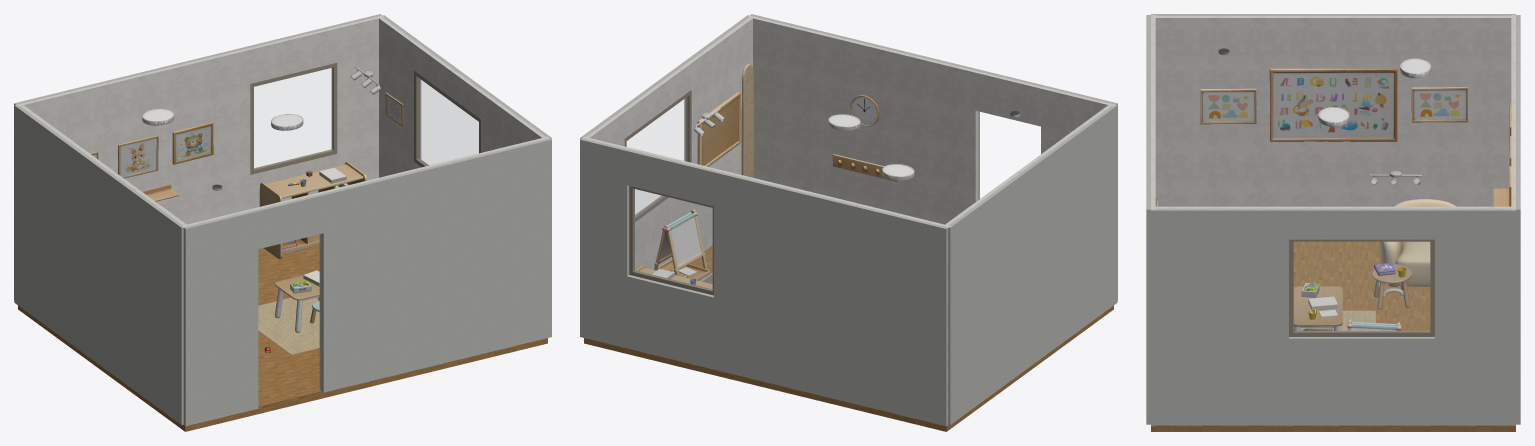
Rendered from scene_web.glb.
3 views of the same model, side by side, from view 1: azimuth 30°, elevation 25°; view 2: azimuth 150°, elevation 25°; view 3: azimuth 270°, elevation 25° (orthographic). The views are drawn at different scales.
Parts seen in each view (by area): view 1: geometry_0.003, geometry_0.007, geometry_0, geometry_0.004, Mesh_0, glass, glass.001, Mesh_0.001, geometry_0.009, frame, geometry_0.002, geometry_0.017 (+6 smaller); view 2: geometry_0.001, geometry_0.002, geometry_0.007, geometry_0.004, glass, Mesh_0, glass.001, geometry_0.008, geometry_0.022, frame, geometry_0.023, geometry_0.003 (+6 smaller); view 3: geometry_0.005, geometry_0.006, glass.001, Mesh_0, geometry_0.025, frame.001, geometry_0.010, geometry_0.001, geometry_0.003, geometry_0.027, geometry_0.026, geometry_0.011 (+9 smaller).
Boxes of the visible parts, x1,y1,x2,y2 form: geometry_0.003: (183,138,551,426); geometry_0.007: (14,105,183,424); geometry_0: (16,15,383,224); geometry_0.004: (379,17,545,177); Mesh_0: (18,245,547,431); glass: (254,68,332,168); glass.001: (418,78,478,165); Mesh_0.001: (258,297,319,354); geometry_0.009: (259,162,367,259); frame: (250,63,337,174); geometry_0.002: (182,136,549,390); geometry_0.017: (117,135,158,178); geometry_0.001: (580,138,948,426); geometry_0.002: (748,15,1115,224); geometry_0.007: (948,105,1117,424); geometry_0.004: (586,17,752,270); glass: (634,189,712,289); Mesh_0: (584,245,1113,431); glass.001: (627,97,687,215); geometry_0.008: (654,209,709,280); geometry_0.022: (697,91,740,166); frame: (629,186,713,295); geometry_0.023: (741,64,753,177); geometry_0.003: (750,14,1117,300); geometry_0.005: (1151,208,1515,425); geometry_0.006: (1155,16,1511,206); glass.001: (1294,242,1429,331); Mesh_0: (1151,241,1515,431); geometry_0.025: (1269,68,1397,141); frame.001: (1289,239,1434,336); geometry_0.010: (1379,199,1456,286); geometry_0.001: (1516,15,1520,424); geometry_0.003: (1146,15,1150,424); geometry_0.027: (1411,87,1468,122); geometry_0.026: (1200,88,1256,124); geometry_0.011: (1293,286,1342,330).
Bounding box in the file's own units: 5.1 × 2.7 × 4.1.
50 materials, 48 textured.
